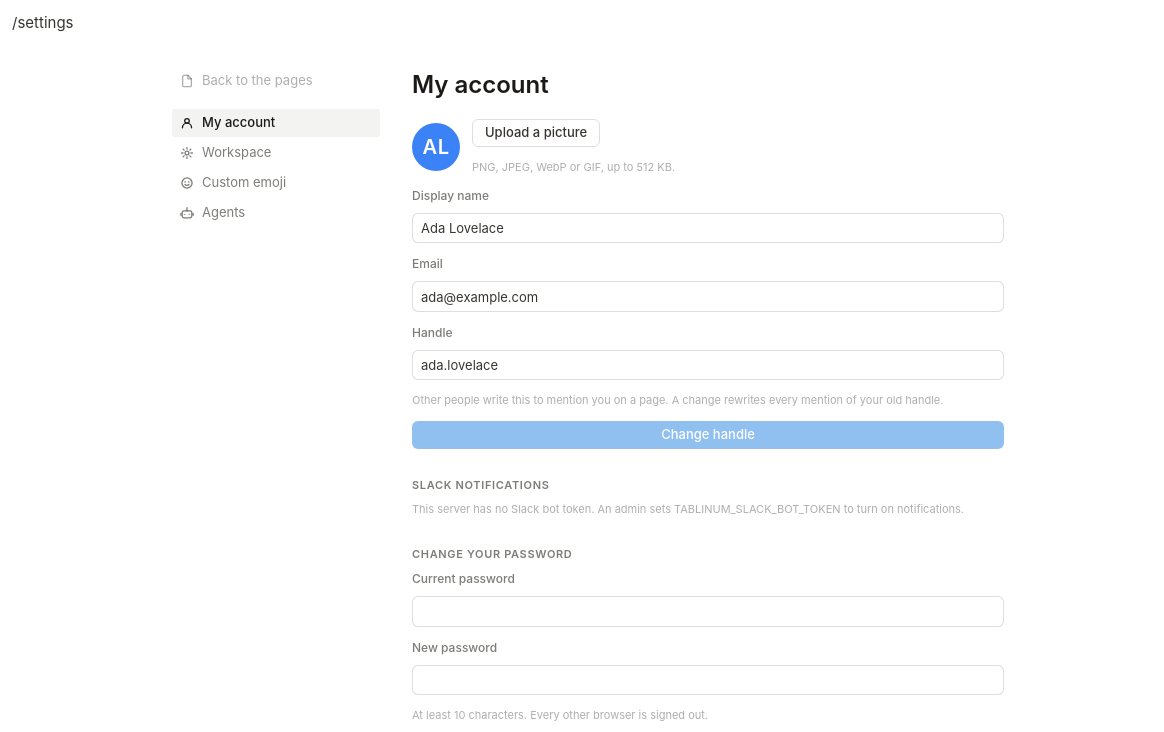
Test: the settings page › lets an admin walk from one section to another
Click the button "Workspace": {"x": 276, "y": 152} [172, 138, 380, 166]
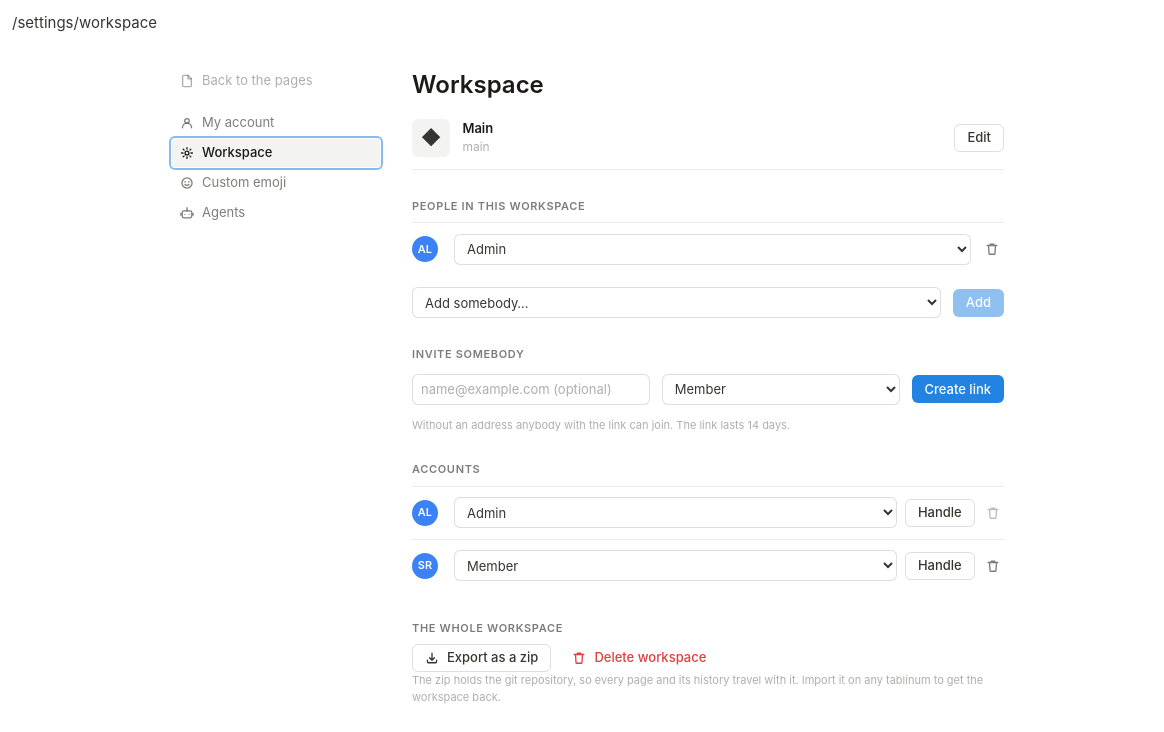
Expected: the heading "Workspace" is shown, [412, 70, 544, 98]
Expected: the text with test id "location" reads "/settings/workspace", [12, 13, 157, 32]
